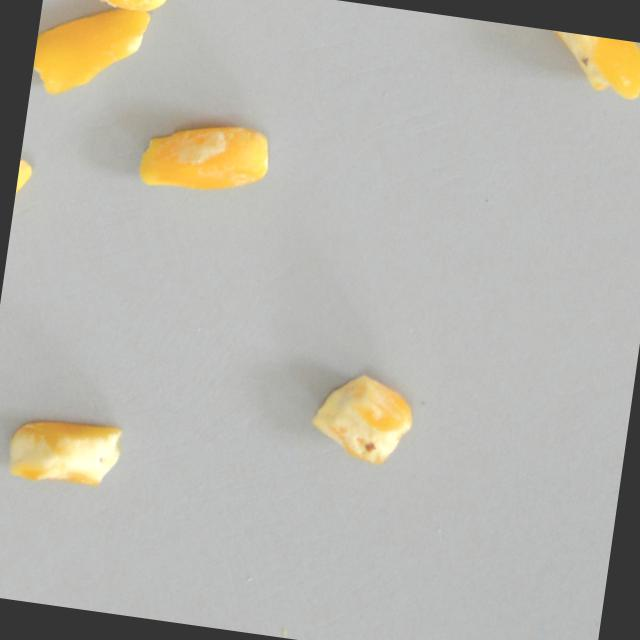dañado: (303, 362, 419, 475), (10, 125, 37, 226)
estandar: (29, 0, 160, 110)
pelicula: (130, 111, 273, 226)
punto_negro: (2, 411, 125, 496), (531, 28, 640, 103), (76, 0, 176, 17)
